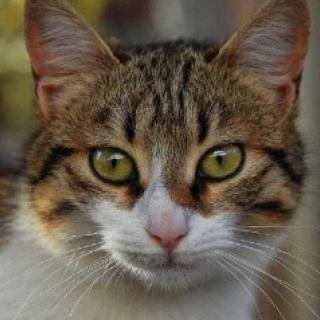cat: (21, 0, 312, 295)
nose: (140, 186, 193, 252)
